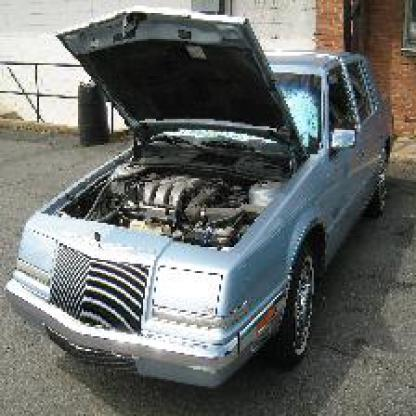not_emergency: (28, 13, 382, 386)
